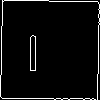I: (25, 24, 40, 72)
